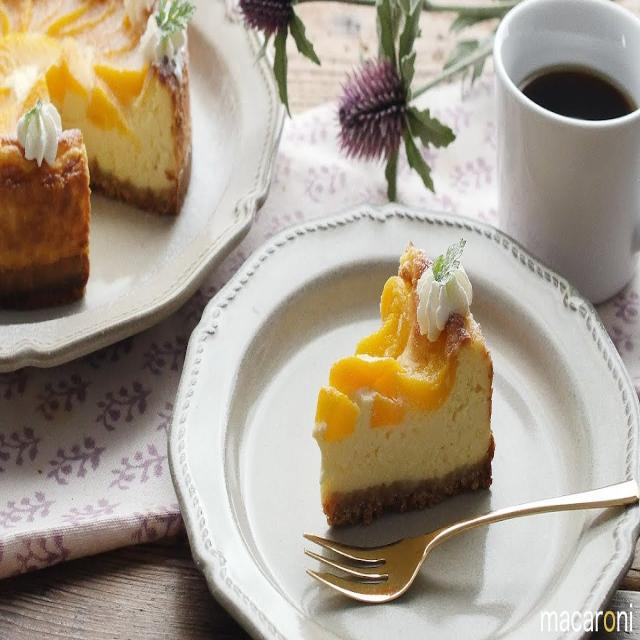cheesecake: (1, 0, 200, 332), (312, 240, 494, 525)
